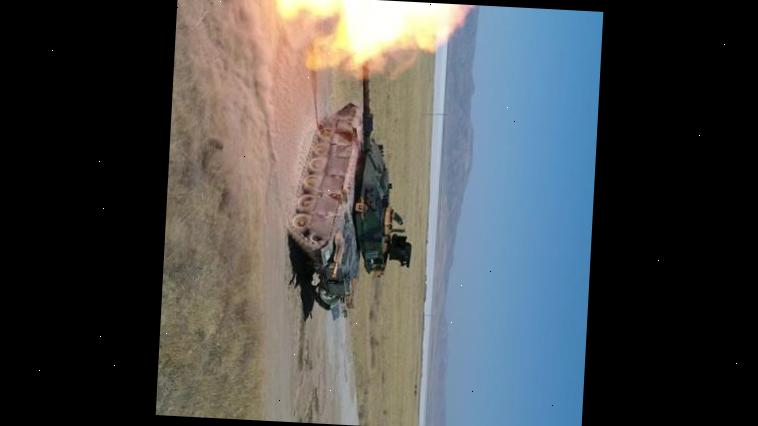tank: (280, 81, 420, 325)
